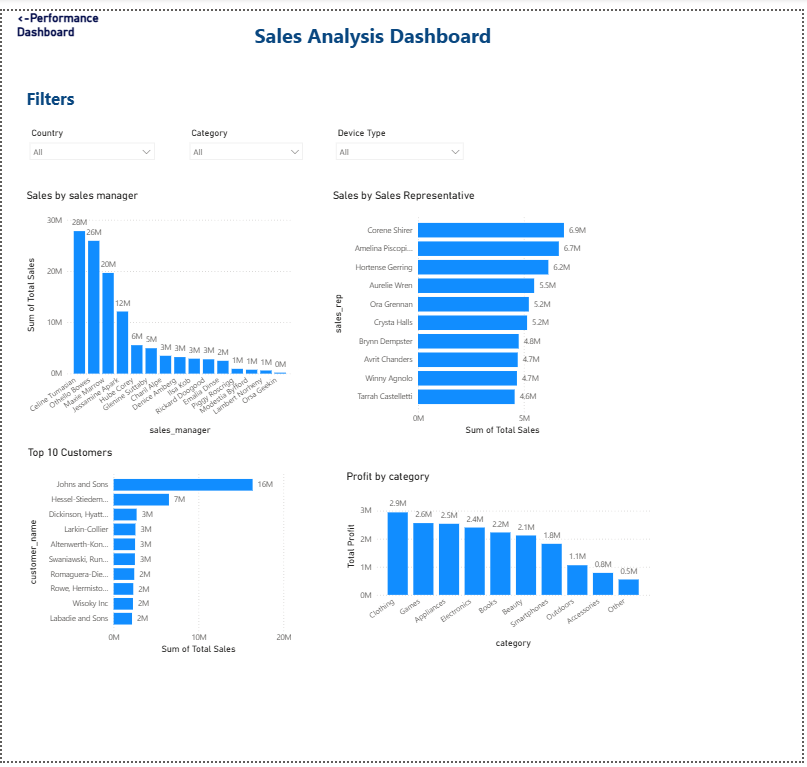

This screenshot's page, from the dashboard's own definition file:
{"tool":"powerbi","page":{"name":"Sales Analysis","canvas":[1280,1200],"ordinal":1},"visuals":[{"type":"clusteredColumnChart","title":"Sales by sales manager","fields":{"Y":["Sum(Sales-Export_2019-2020. order_value_EUR )"],"Category":["Sales-Export_2019-2020.sales_manager"]},"box":[33.3,283.3,435,400],"z":0},{"type":"textbox","box":[390,12,424,58],"z":1000},{"type":"textbox","box":[33.3,115,100,51.7],"z":2000},{"type":"slicer","fields":{"Values":["Sales-Export_2019-2020.country"]},"box":[33.3,181.7,220,101.7],"z":3000},{"type":"slicer","fields":{"Values":["Sales-Export_2019-2020.category"]},"box":[290,181.7,201.4,84.3],"z":4000},{"type":"slicer","fields":{"Values":["Sales-Export_2019-2020.device_type"]},"box":[523.3,181.7,224.3,84.3],"z":5000},{"type":"clusteredBarChart","title":"Sales by Sales Representative","fields":{"Category":["Sales-Export_2019-2020.sales_rep"],"Y":["Sum(Sales-Export_2019-2020.Total Sales)"]},"box":[523.3,283.3,426.7,400],"z":5001},{"type":"clusteredBarChart","title":"Top 10 Customers","fields":{"Category":["Sales-Export_2019-2020.customer_name"],"Y":["Sum(Sales-Export_2019-2020.Total Sales)"]},"box":[36.7,696.7,431.7,338.3],"z":5002},{"type":"clusteredColumnChart","title":"Profit by category","fields":{"Category":["Sales-Export_2019-2020.category"],"Y":["Sales-Export_2019-2020.Total Profit"]},"box":[545,733.3,495,290],"z":5003},{"type":"actionButton","title":"<-Performance Dashboard","box":[24,0,142,54],"z":5004}]}

Visuals, with their boxes in screenshot pixels (x1, y1, x2, y2), scaled from the page's 1280x1200 canvas onto the 807x767 screenshot:
"Sales by sales manager" clusteredColumnChart: 21 181 295 437
textbox: 246 8 513 45
textbox: 21 74 84 107
slicer - Sales-Export_2019-2020.country: 21 116 160 181
slicer - Sales-Export_2019-2020.category: 183 116 310 170
slicer - Sales-Export_2019-2020.device_type: 330 116 471 170
"Sales by Sales Representative" clusteredBarChart: 330 181 599 437
"Top 10 Customers" clusteredBarChart: 23 445 295 662
"Profit by category" clusteredColumnChart: 344 469 656 654
"<-Performance Dashboard" actionButton: 15 0 105 35
